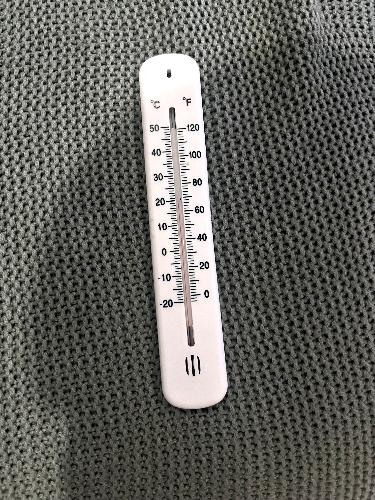thermo: (133, 54, 230, 399)
